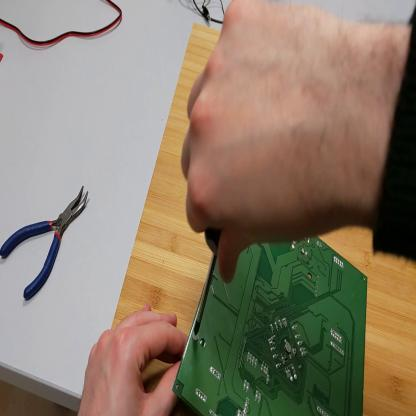hand: (184, 2, 371, 282), (77, 307, 190, 416)
low voltage board: (173, 234, 369, 416)
pliers: (2, 185, 88, 299)
screwdriver-: (195, 223, 224, 335)
working area: (114, 22, 416, 414)
